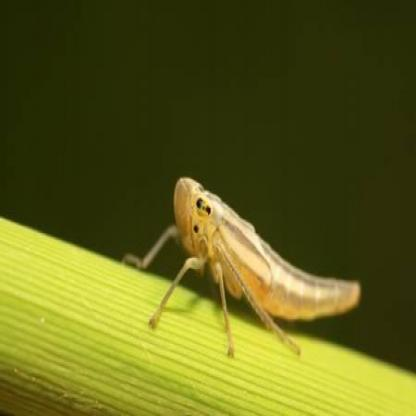Green-Leafhopper: (124, 174, 363, 356)
